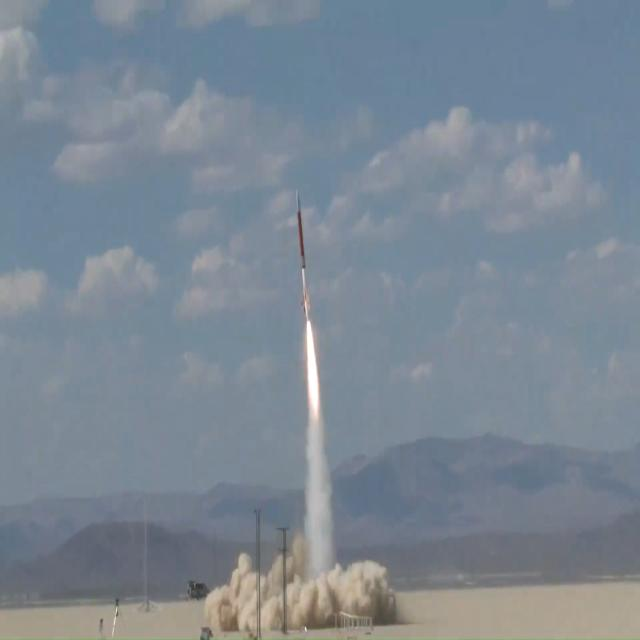Rocket: (296, 191, 310, 323)
